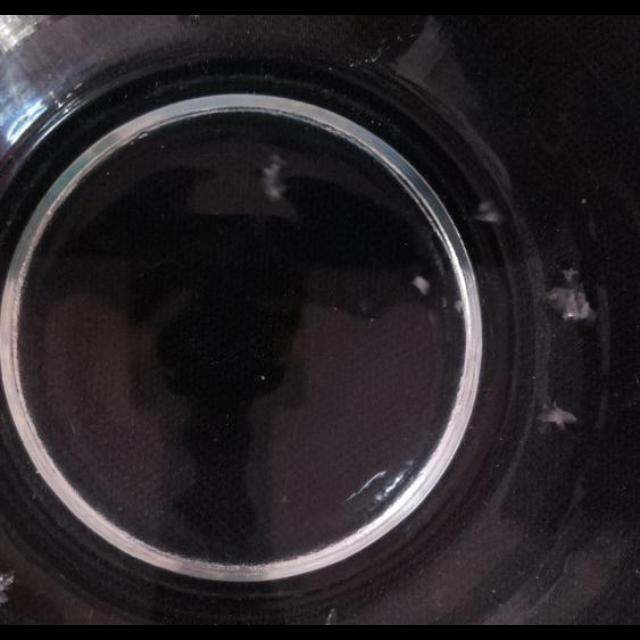Fibre: (547, 270, 597, 322), (260, 156, 290, 202), (536, 402, 576, 431), (472, 200, 502, 224), (2, 570, 16, 608), (410, 276, 430, 294), (324, 608, 338, 624)
microbeads: (452, 298, 466, 314), (368, 315, 376, 323)
